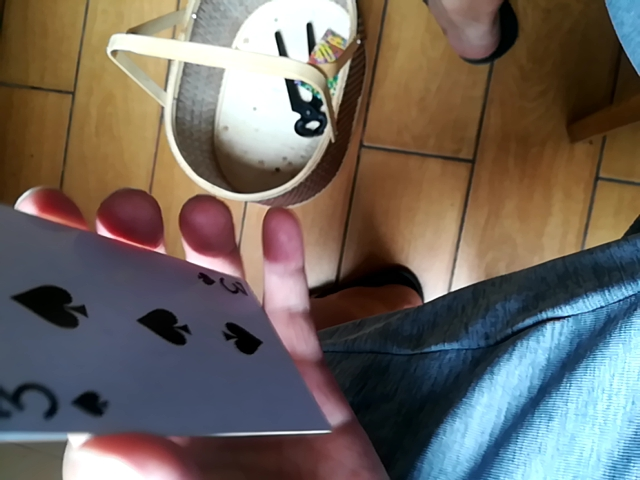ht 3: (3, 206, 331, 442)
